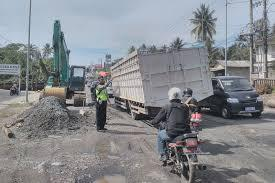Pothole: (82, 169, 149, 183)
